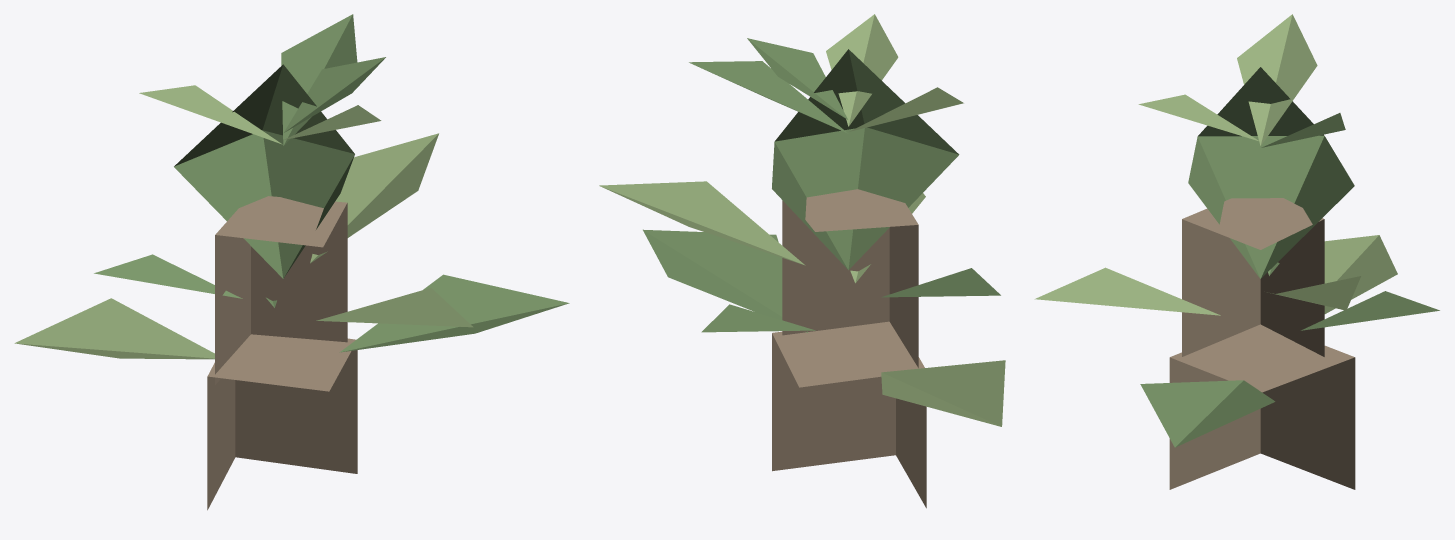
The model's file is guan.aili@seedling__summer.glb.
3 views of the same model, side by side, from view 1: azimuth 30°, elevation 25°; view 2: azimuth 150°, elevation 25°; view 3: azimuth 270°, elevation 25° (orthographic). The views are drawn at different scales.
Visible parts, largest first — view 1: guan.aili@seedling__summer; view 2: guan.aili@seedling__summer; view 3: guan.aili@seedling__summer.
Boxes of the visible parts, x1,y1,x2,y2 form: guan.aili@seedling__summer: (14,14,569,510); guan.aili@seedling__summer: (599,14,1005,508); guan.aili@seedling__summer: (1034,14,1439,489).
Bounding box in the file's own units: 0.0874 × 0.079 × 0.0688.
